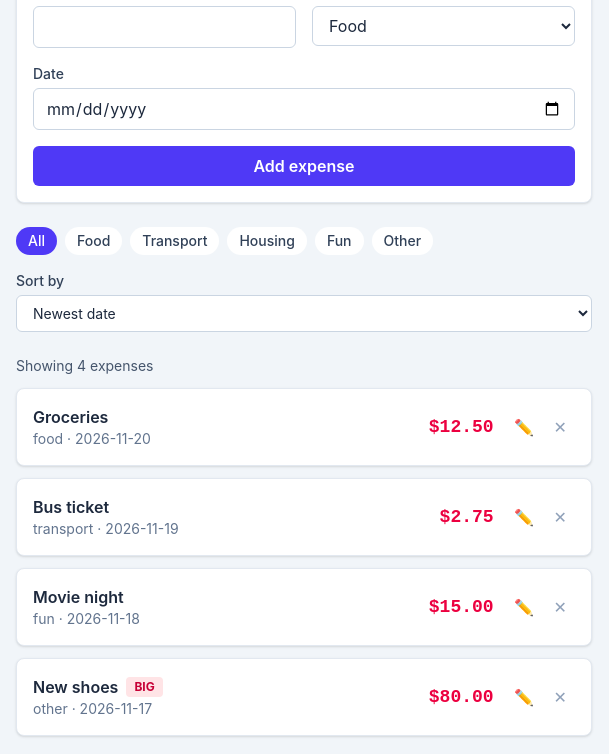
Test: App › shows the empty message and $0.00 after deleting every expense
The width and height of the screenshot is (609, 754).
(page scrolled)
Click the button named "Delete Groceries": (560, 427) [546,411,575,443]
(page scrolled)
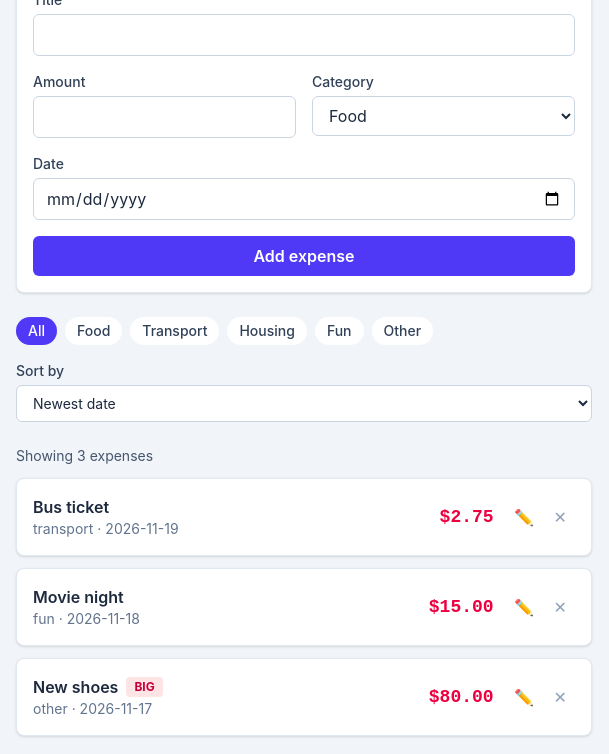
Click the button named "Delete Bus ticket": (560, 517) [546,501,575,533]
(page scrolled)
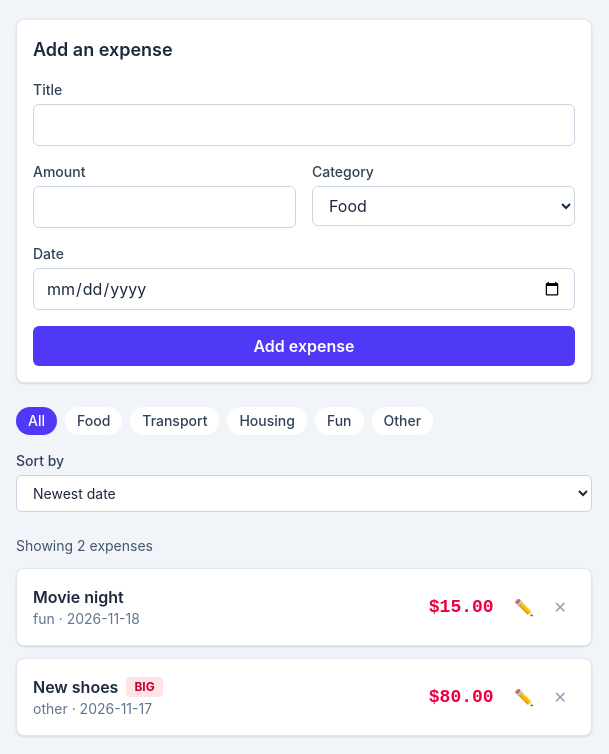
Click the button named "Delete Movie night": (560, 607) [546,591,575,623]
(page scrolled)
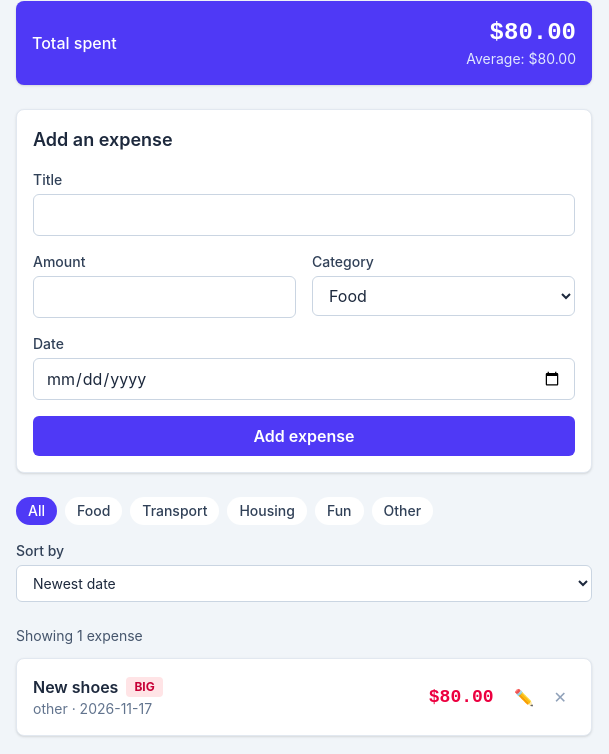
Click the button named "Delete New shoes": (560, 697) [546,681,575,713]
(page scrolled)
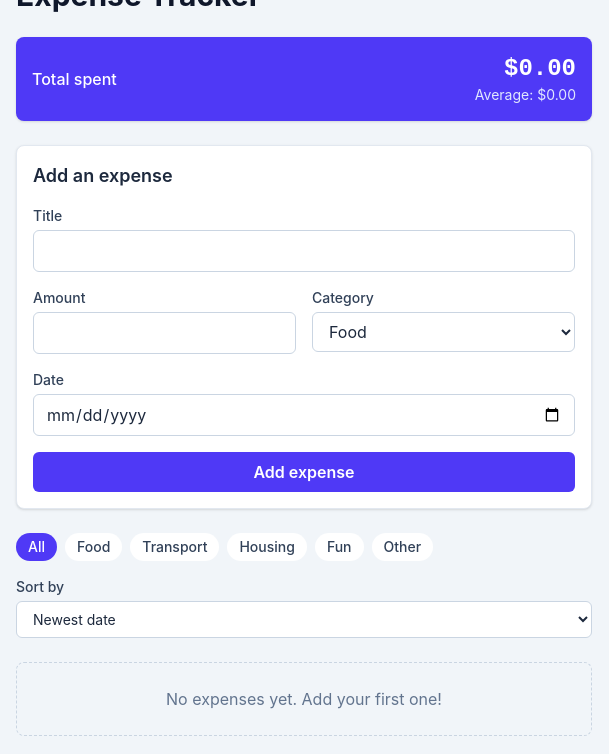
Result: the text "No expenses yet. Add your first one!" is shown at [16,662,592,736]
Result: the text "$0.00" is shown at [504,55,576,82]
